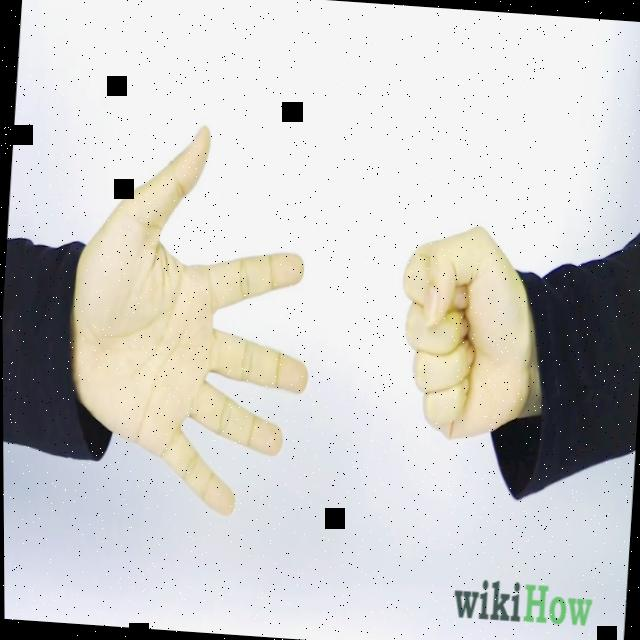Paper: (58, 116, 326, 522)
Rock: (390, 218, 542, 450)
